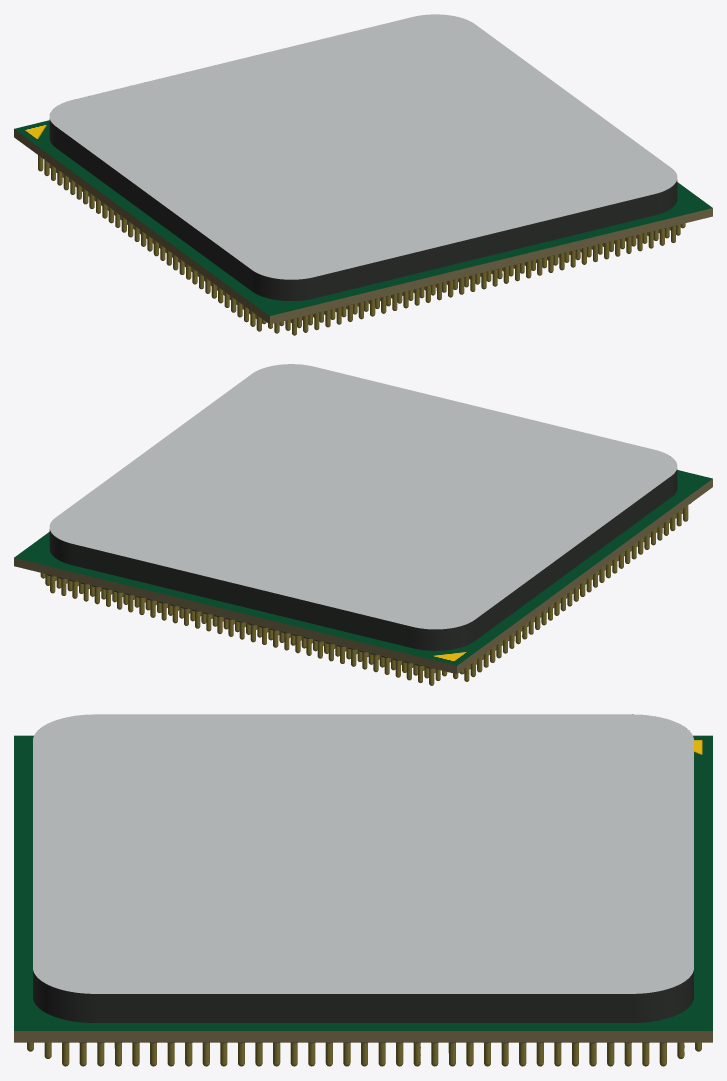
File: 014-am4-processor-with-die.glb
The picture shows the model from 3 angles, top to bottom: view 1: azimuth 30°, elevation 25°; view 2: azimuth 150°, elevation 25°; view 3: azimuth 270°, elevation 25°; orthographic projection. The views are drawn at different scales.
Visible parts, largest first — view 1: Object_4, Object_5, Object_15, Object_7, Object_8; view 2: Object_4, Object_5, Object_15, Object_7, Object_8; view 3: Object_4, Object_5, Object_7, Object_8, Object_15.
Part boxes in pixels (<box>): Object_4: <box>49,14,677,279</box>; Object_5: <box>41,119,677,318</box>; Object_15: <box>38,155,685,335</box>; Object_7: <box>14,120,712,315</box>; Object_8: <box>14,129,712,324</box>; Object_4: <box>49,364,677,629</box>; Object_5: <box>47,469,690,668</box>; Object_15: <box>40,505,688,685</box>; Object_7: <box>14,470,712,665</box>; Object_8: <box>14,479,712,674</box>; Object_4: <box>33,714,693,993</box>; Object_5: <box>33,714,693,1043</box>; Object_7: <box>14,735,712,1030</box>; Object_8: <box>14,1031,712,1042</box>; Object_15: <box>27,1042,701,1066</box>.
Size of the model in its own units: 0.2478 by 0.0281 by 0.2478.
6 materials, 5 textured.
